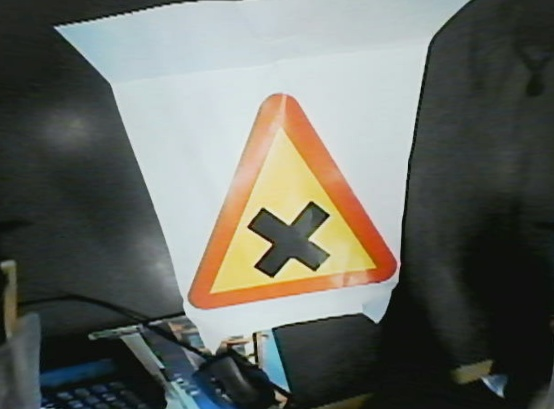junction: (171, 79, 403, 304)
